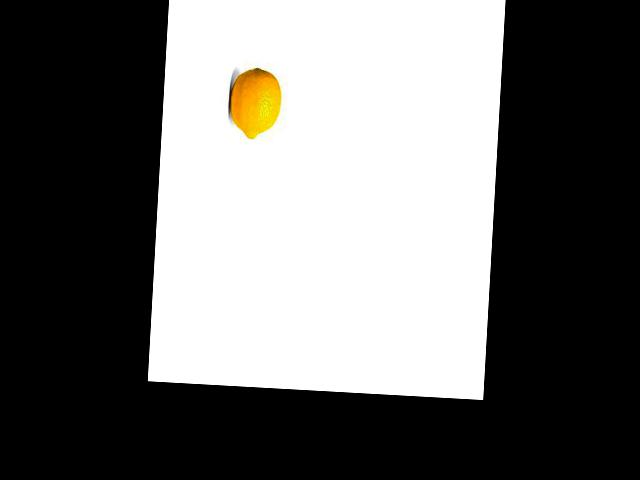lemon: (227, 63, 284, 144)
